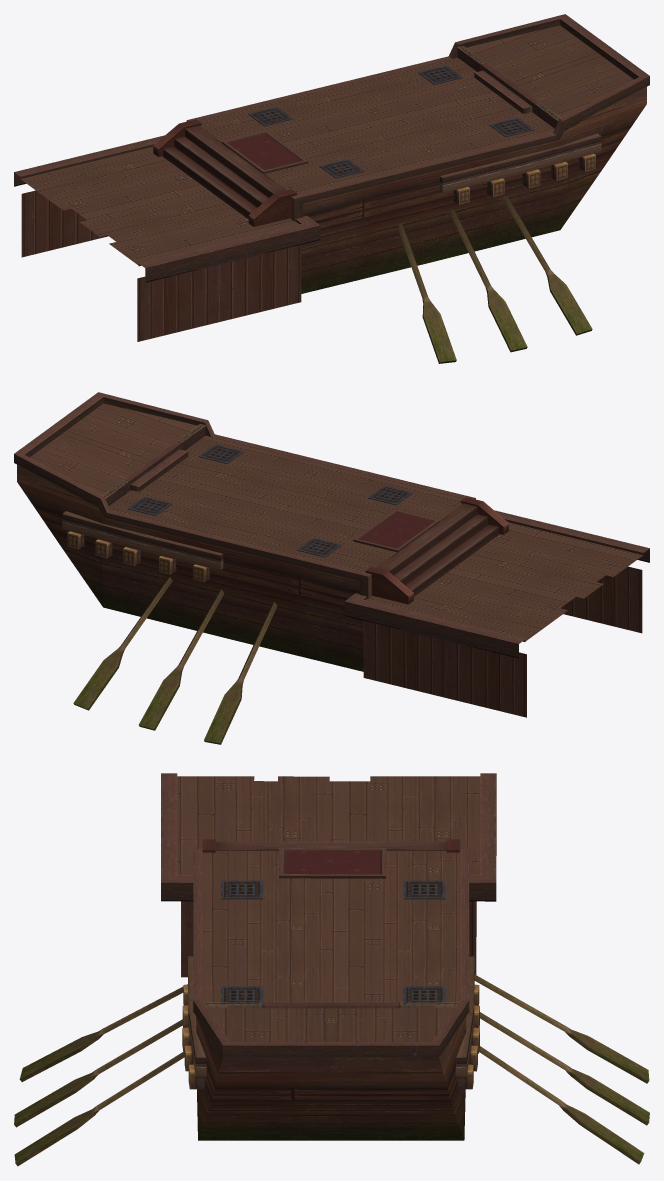
3 views of the same model, one above another, from view 1: azimuth 30°, elevation 25°; view 2: azimuth 150°, elevation 25°; view 3: azimuth 270°, elevation 25° (orthographic). The views are drawn at different scales.
Visible parts, largest first — view 1: polySurface5; view 2: polySurface5; view 3: polySurface5.
Boxes of the visible parts, bbox=[...] form: polySurface5: bbox=[14, 14, 649, 363]; polySurface5: bbox=[14, 392, 649, 744]; polySurface5: bbox=[14, 773, 649, 1166].
Size of the model in its own units: 103 by 30.33 by 83.48.
